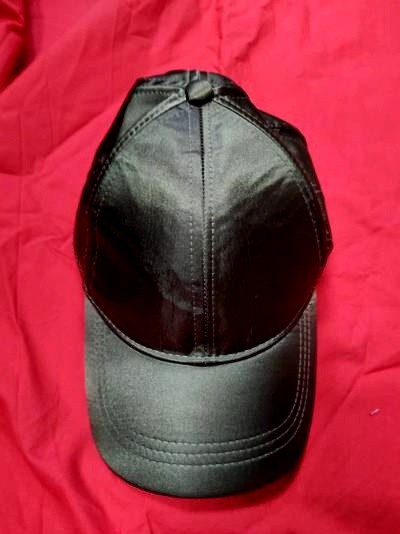Hat: (51, 56, 355, 509)
